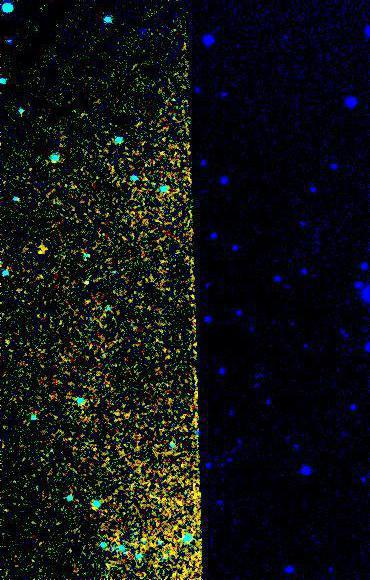star: (24, 237, 54, 267)
